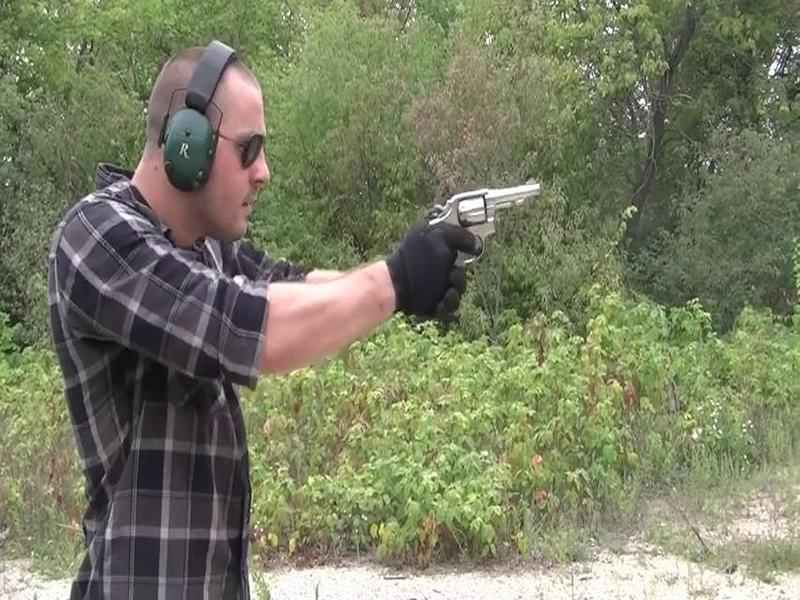Revolver: (408, 163, 544, 282)
